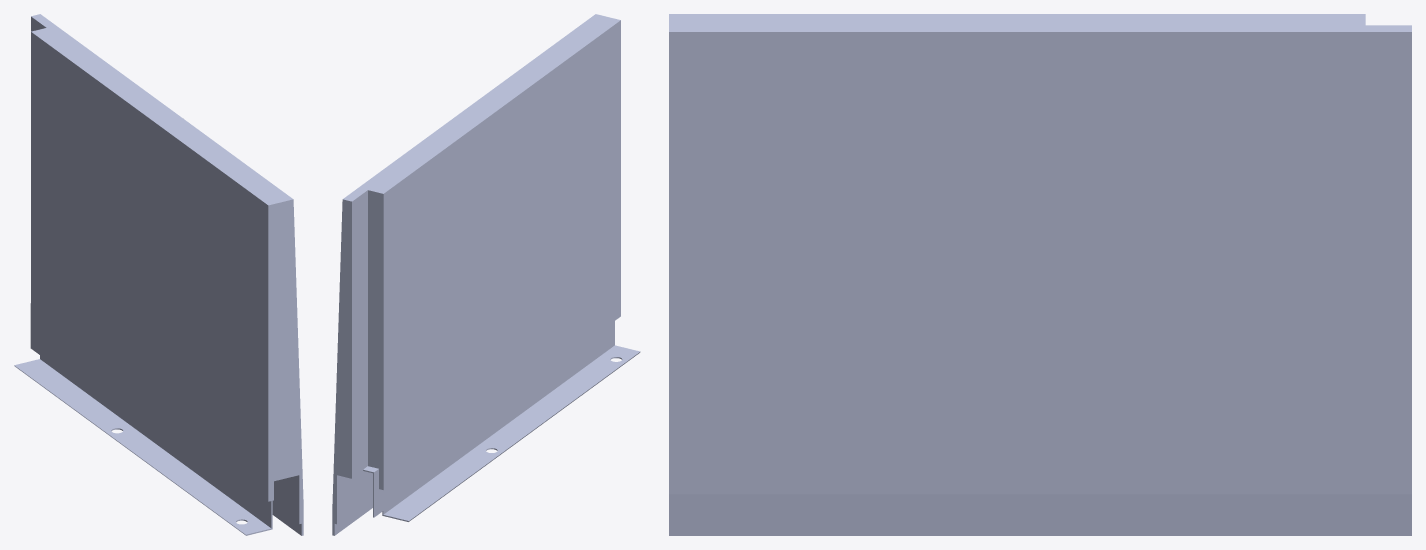
File: mv-kava-E270-m.glb
3 views of the same model, side by side, from view 1: azimuth 30°, elevation 25°; view 2: azimuth 150°, elevation 25°; view 3: azimuth 270°, elevation 25° (orthographic). The views are drawn at different scales.
Visible parts, largest first — view 1: 48389299; view 2: 48389299; view 3: 48389299.
Boxes of the visible parts, <box> form: 48389299: <box>14,14,303,535</box>; 48389299: <box>332,14,640,535</box>; 48389299: <box>669,14,1411,535</box>.
Bounding box in the file's own units: 0.0335 × 0.192 × 0.2602.
